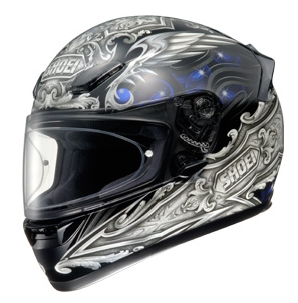helmet: (24, 16, 276, 269)
